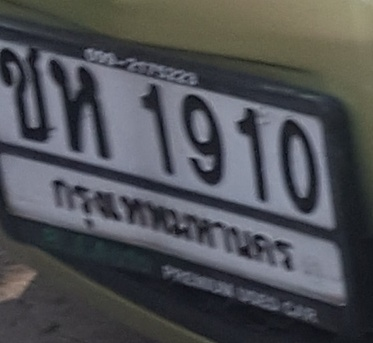txt08: (1, 44, 52, 145)
txt36: (46, 57, 112, 163)
